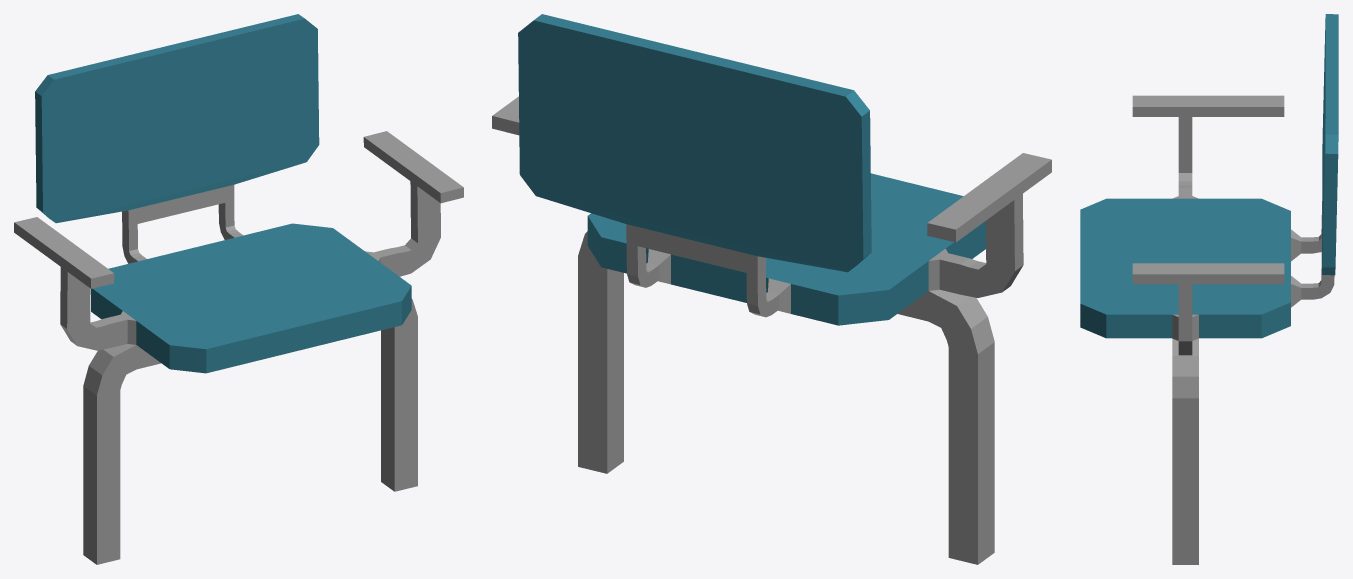
File: Seat.fbx
3 renders of one model, left to right at view 1: azimuth 30°, elevation 25°; view 2: azimuth 150°, elevation 25°; view 3: azimuth 270°, elevation 25°, orthographic. The views are drawn at different scales.
Parts seen in each view (by area): view 1: Mesh_0; view 2: Mesh_0; view 3: Mesh_0.
Part boxes in pixels (x1,y1,x2,y2): Mesh_0: (14,14,463,564); Mesh_0: (492,14,1051,564); Mesh_0: (1080,14,1338,564).
Bounding box in the file's own units: 33.16 × 35.56 × 20.14.
